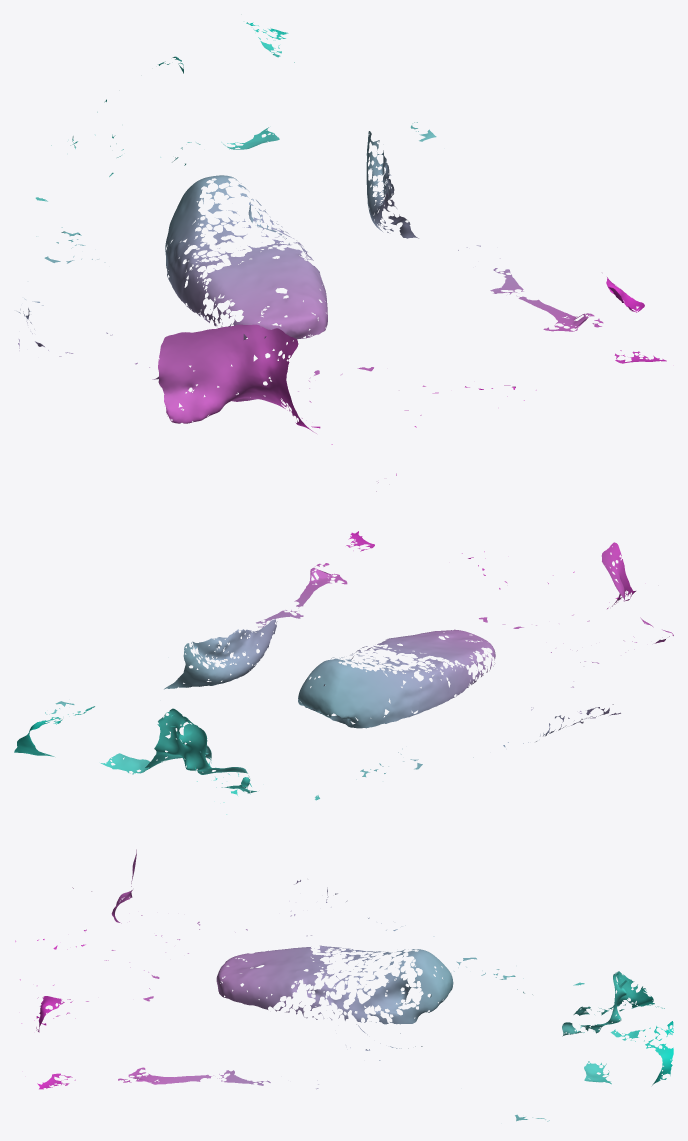
The model's file is seat_clean_final.glb.
3 renders of one model, top to bottom at view 1: azimuth 30°, elevation 25°; view 2: azimuth 150°, elevation 25°; view 3: azimuth 270°, elevation 25°, orthographic. The views are drawn at different scales.
Size of the model in its own units: 3.16 by 0.6026 by 4.02.
